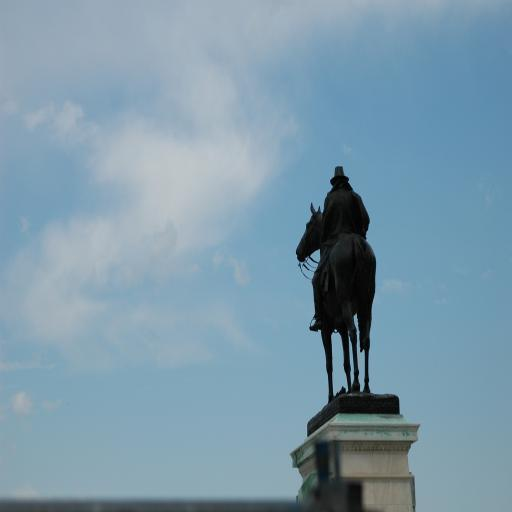horse: (294, 202, 376, 404)
